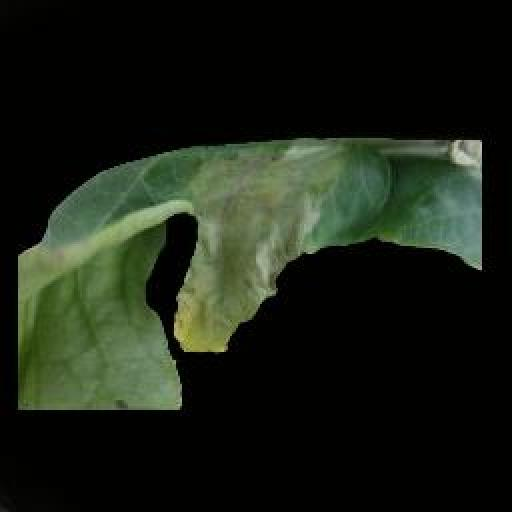Late Blight: (18, 135, 482, 409)
